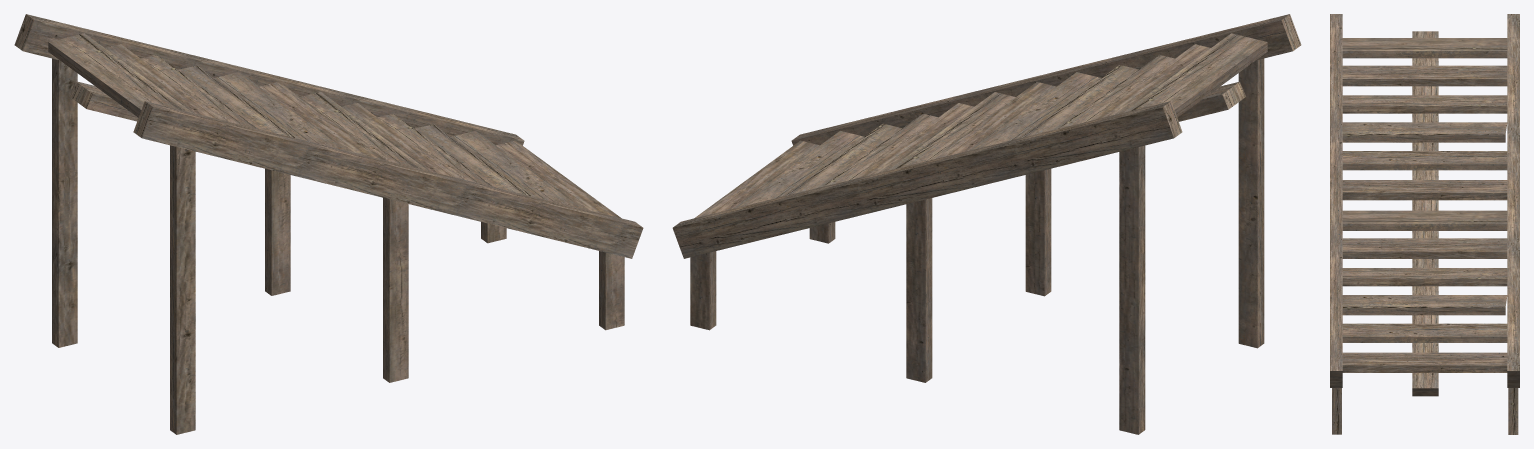
The model's file is Prop_Mq05.glb.
3 renders of one model, left to right at view 1: azimuth 30°, elevation 25°; view 2: azimuth 150°, elevation 25°; view 3: azimuth 270°, elevation 25°, orthographic. The views are drawn at different scales.
Parts seen in each view (by area): view 1: xiutz_mq_05; view 2: xiutz_mq_05; view 3: xiutz_mq_05.
Boxes of the visible parts, x1,y1,x2,y2 form: xiutz_mq_05: [14, 14, 643, 434]; xiutz_mq_05: [672, 14, 1301, 434]; xiutz_mq_05: [1330, 14, 1519, 434].
Size of the model in its own units: 7.35 by 4.69 by 3.23.
1 material, 1 textured.
